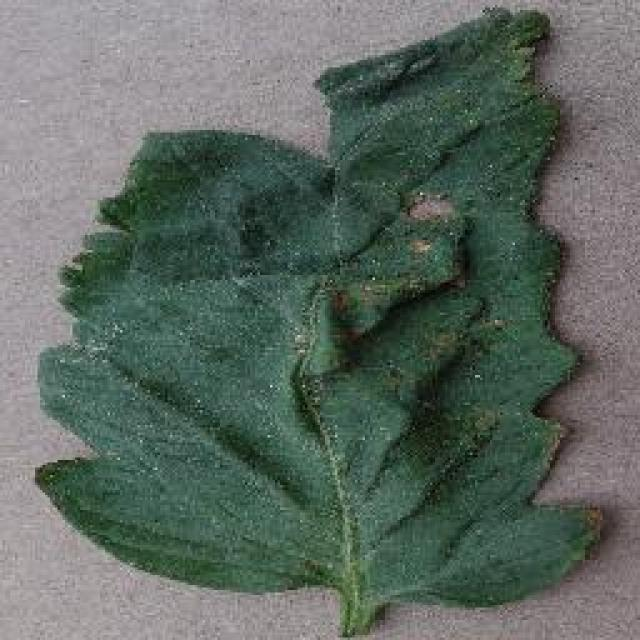bacterial spot: (31, 7, 611, 629)
